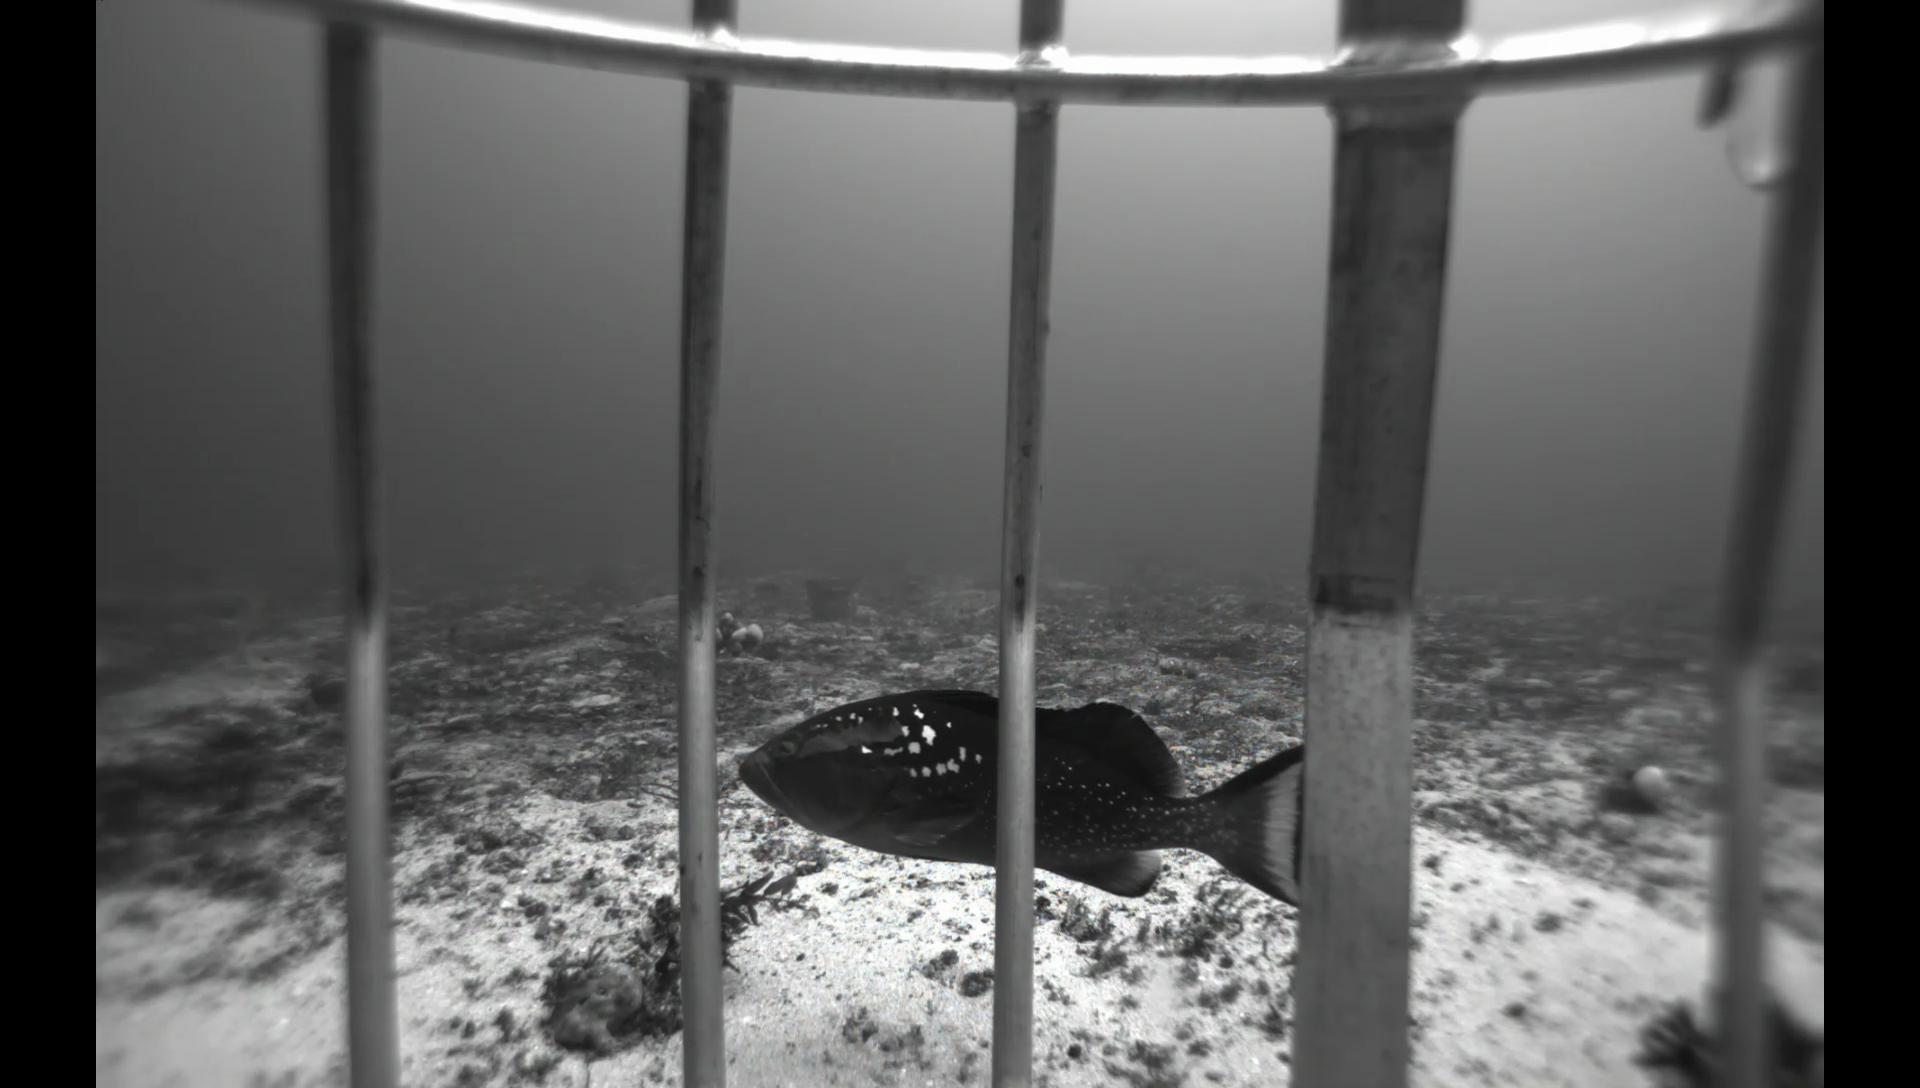CHAETODONOCELLATUS-170260307: (1476, 588, 1513, 615), (1414, 579, 1424, 600)
EPINEPHELUSMORIO-170021211: (728, 683, 1300, 914)
PRISTIGENYSALTA-170050401: (297, 670, 347, 713)
